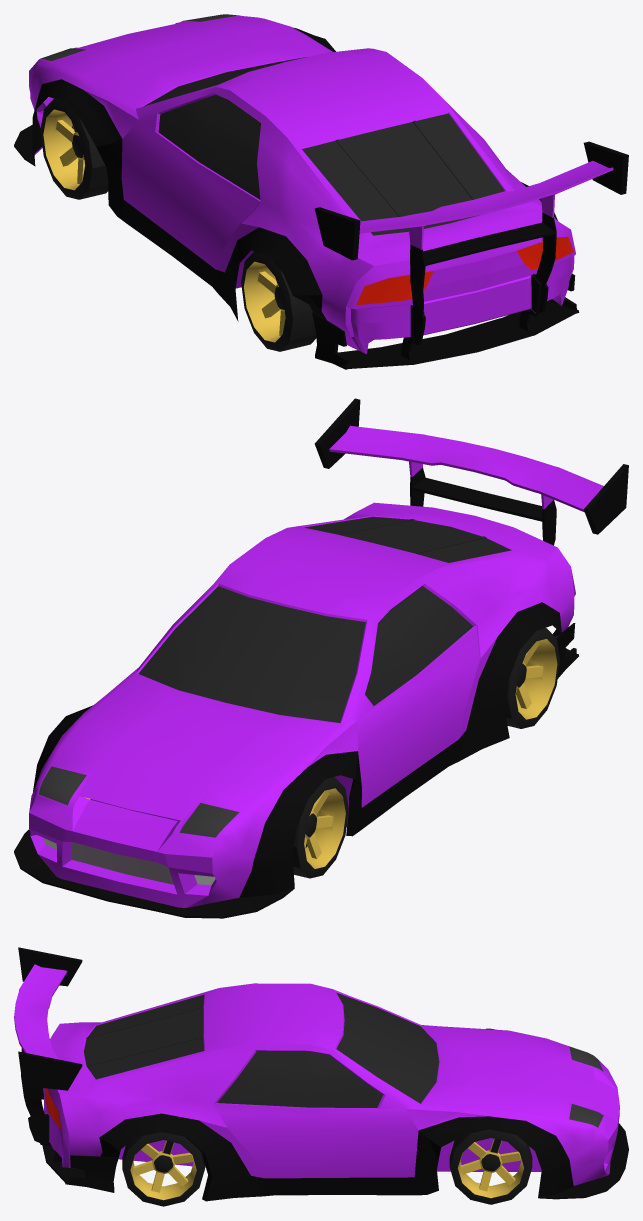
3 renders of one model, top to bottom at view 1: azimuth 30°, elevation 25°; view 2: azimuth 150°, elevation 25°; view 3: azimuth 270°, elevation 25°, orthographic. The views are drawn at different scales.
Parts seen in each view (by area): view 1: Body, Wheel.Bk.L, Wheel.Ft.L; view 2: Body, Wheel.Ft.L, Wheel.Bk.L; view 3: Body, Wheel.Ft.L, Wheel.Bk.L.
Boxes of the visible parts, <box> form: Body: <box>14,14,628,369</box>; Wheel.Bk.L: <box>241,251,316,351</box>; Wheel.Ft.L: <box>40,98,108,199</box>; Body: <box>14,398,628,918</box>; Wheel.Ft.L: <box>81,777,348,878</box>; Wheel.Bk.L: <box>504,628,559,728</box>; Body: <box>14,947,628,1201</box>; Wheel.Ft.L: <box>449,1129,532,1204</box>; Wheel.Bk.L: <box>122,1132,204,1206</box>.
Bounding box in the file's own units: 680 × 461 × 1661.
3 materials, 1 textured.
